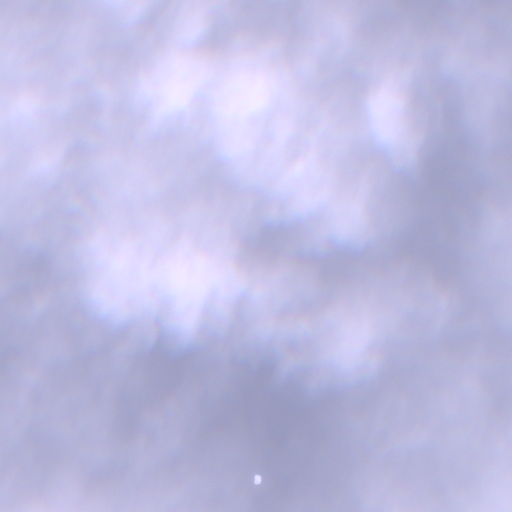Iceberg: (255, 475, 260, 483)
